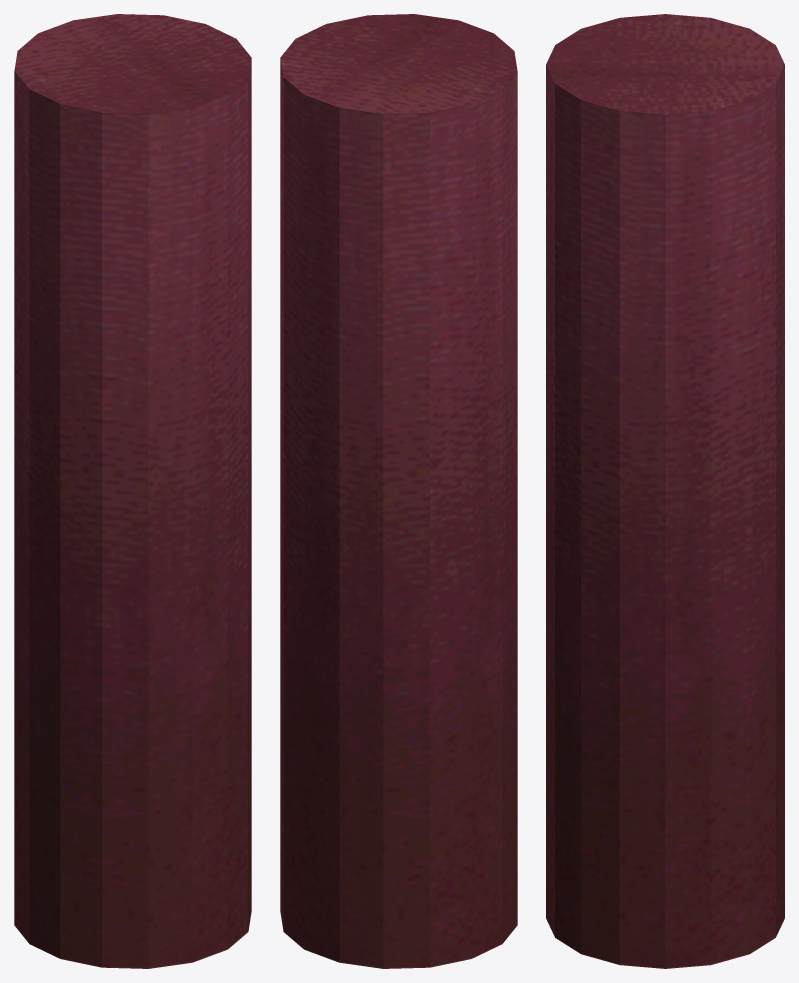
Rendered from cochoneta Yoga.fbx.
3 views of the same model, side by side, from view 1: azimuth 30°, elevation 25°; view 2: azimuth 150°, elevation 25°; view 3: azimuth 270°, elevation 25° (orthographic).
Visible parts, largest first — view 1: colchoneta Yoga; view 2: colchoneta Yoga; view 3: colchoneta Yoga.
Part boxes in pixels (<box>): colchoneta Yoga: <box>14,14,251,968</box>; colchoneta Yoga: <box>280,14,517,968</box>; colchoneta Yoga: <box>546,14,784,968</box>.
Size of the model in its own units: 0.16 by 0.6313 by 0.16.
